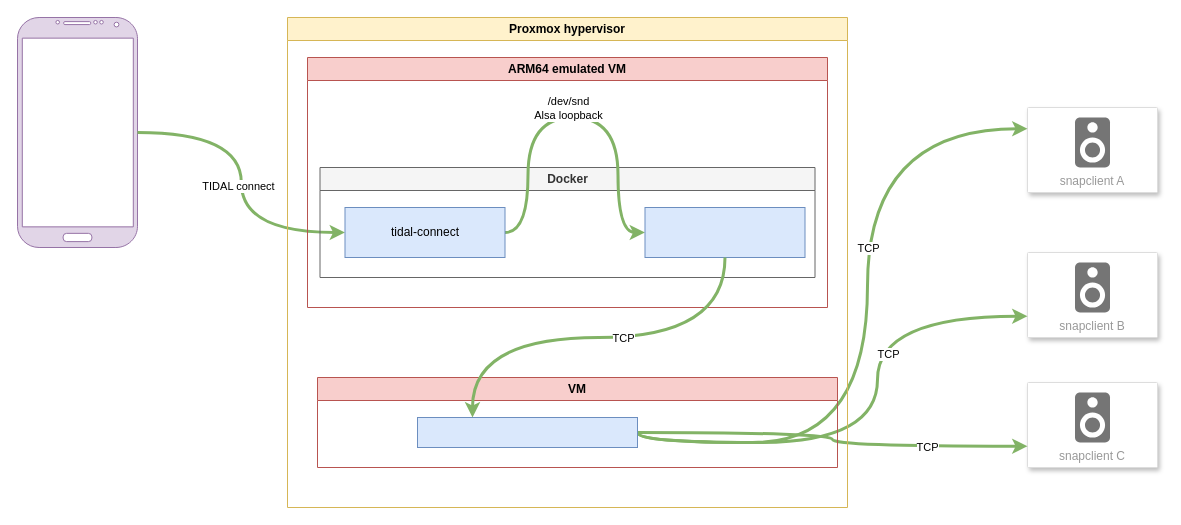
The diagram is 1181 pixels wide and 525 high, and some of its shapes have lost their labels. Here are the shapes that lost their labels. From the top down, the centre of each, then its label:
At (77,132): "Tidal".
At (724,232): "ffmpeg".
At (527,432): "snapserver".
